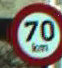Speed limit: (8, 3, 60, 65)
